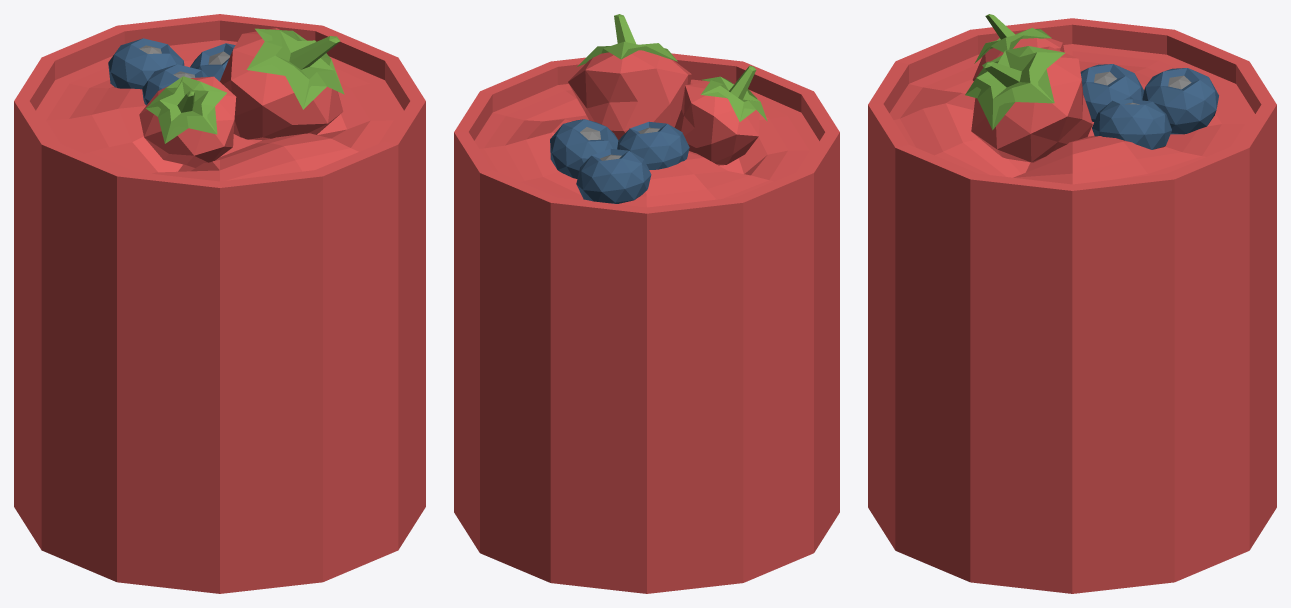
File: Smoothie.fbx
3 views of the same model, side by side, from view 1: azimuth 30°, elevation 25°; view 2: azimuth 150°, elevation 25°; view 3: azimuth 270°, elevation 25° (orthographic). The views are drawn at different scales.
Visible parts, largest first — view 1: Smoothie_LOD0; view 2: Smoothie_LOD0; view 3: Smoothie_LOD0.
Boxes of the visible parts, x1,y1,x2,y2 form: Smoothie_LOD0: [14, 14, 425, 593]; Smoothie_LOD0: [454, 14, 839, 593]; Smoothie_LOD0: [868, 14, 1276, 593].
Size of the model in its own units: 80 by 104 by 80.
